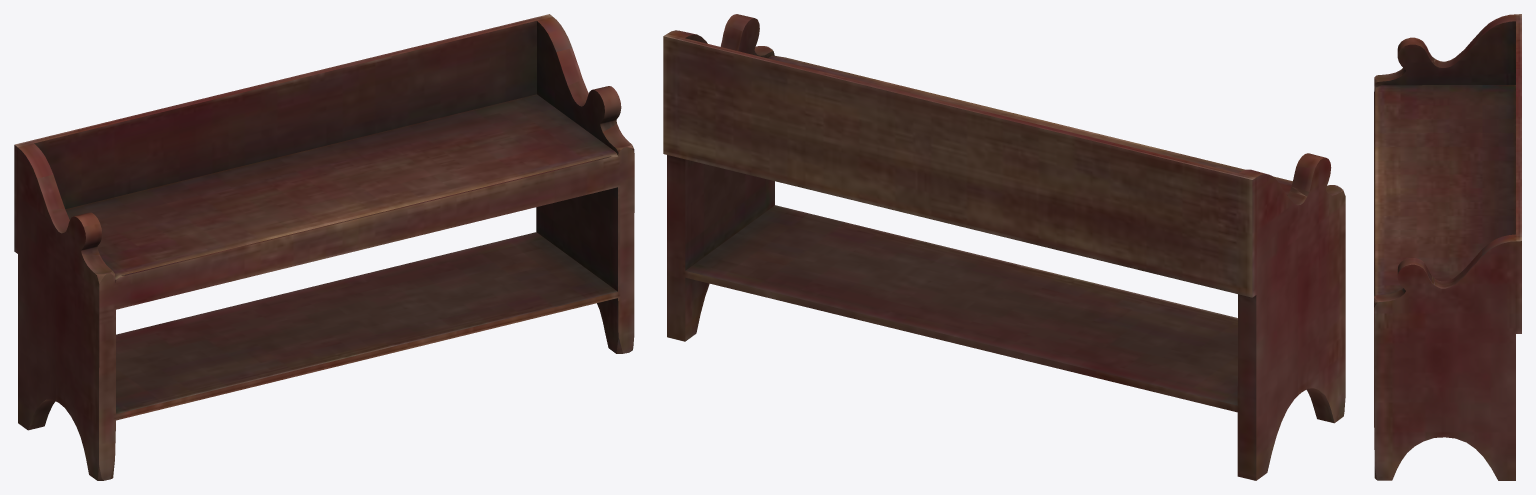
File: waiting_bench.glb
3 renders of one model, left to right at view 1: azimuth 30°, elevation 25°; view 2: azimuth 150°, elevation 25°; view 3: azimuth 270°, elevation 25°, orthographic. The views are drawn at different scales.
Visible parts, largest first — view 1: waiting_bench; view 2: waiting_bench; view 3: waiting_bench.
Boxes of the visible parts, left/top/right/bottom form: waiting_bench: left=14, top=14, right=634, bottom=480; waiting_bench: left=663, top=14, right=1345, bottom=480; waiting_bench: left=1374, top=14, right=1521, bottom=480.
Size of the model in its own units: 1.83 by 0.9 by 0.5025.
Materials: 1 (1 with a texture image).
